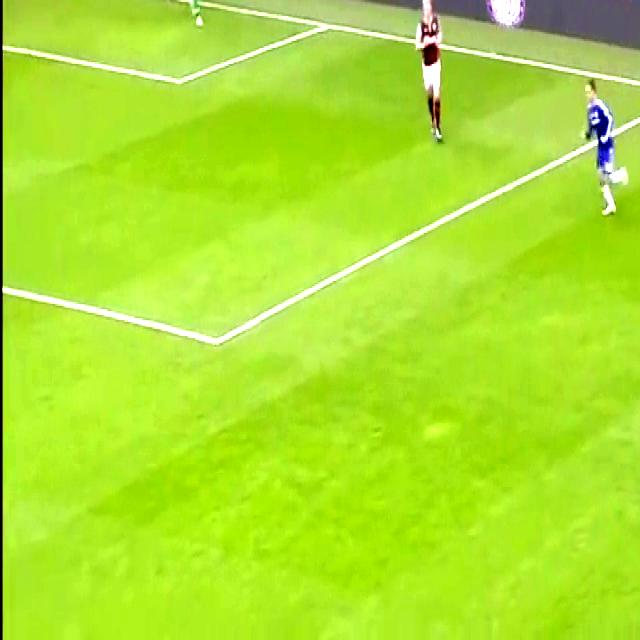goalkeeper: (177, 0, 216, 30)
soccer-player: (576, 68, 635, 226), (411, 0, 450, 146)
